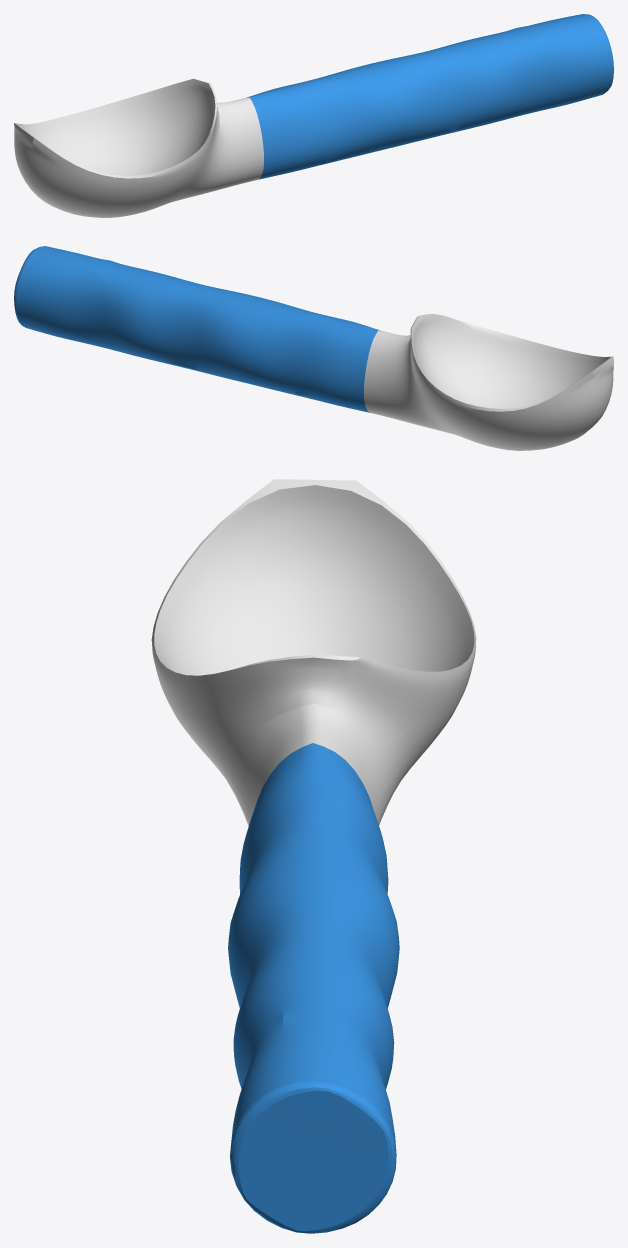
File: Scoop_01.fbx
3 views of the same model, one above another, from view 1: azimuth 30°, elevation 25°; view 2: azimuth 150°, elevation 25°; view 3: azimuth 270°, elevation 25° (orthographic). The views are drawn at different scales.
Visible parts, largest first — view 1: scoop; view 2: scoop; view 3: scoop.
Boxes of the visible parts, box(x1,y1,x2,y2) form: scoop: box(14, 14, 613, 217); scoop: box(14, 246, 613, 450); scoop: box(151, 479, 476, 1233).
Bounding box in the file's own units: 146 × 25.38 × 35.84.
